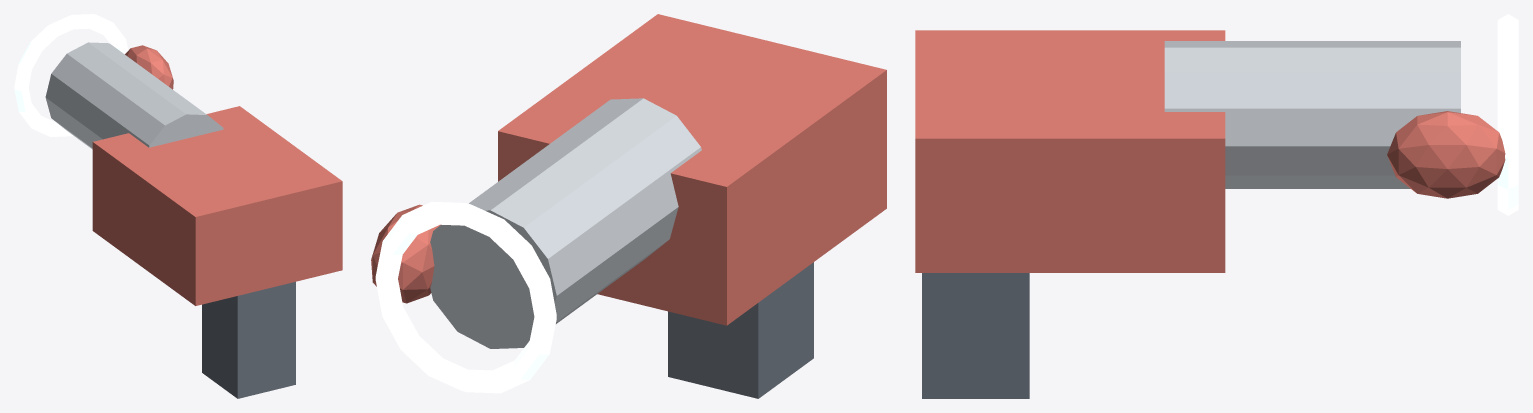
The model's file is pistola_4.glb.
3 renders of one model, left to right at view 1: azimuth 30°, elevation 25°; view 2: azimuth 150°, elevation 25°; view 3: azimuth 270°, elevation 25°, orthographic. The views are drawn at different scales.
Visible parts, largest first — view 1: cuerpo, cañon, empuñadura, bobina, punta; view 2: cuerpo, cañon, bobina, empuñadura, punta; view 3: cuerpo, cañon, empuñadura, punta, bobina.
Part boxes in pixels (x1=…): cuerpo: x1=92, y1=106, x2=342, y2=305; cañon: x1=45, y1=42, x2=223, y2=149; empuñadura: x1=202, y1=281, x2=295, y2=398; bobina: x1=14, y1=14, x2=128, y2=136; punta: x1=125, y1=45, x2=173, y2=89; cuerpo: x1=498, y1=14, x2=886, y2=325; cañon: x1=430, y1=98, x2=701, y2=348; bobina: x1=375, y1=201, x2=556, y2=393; empuñadura: x1=668, y1=262, x2=813, y2=398; punta: x1=371, y1=204, x2=440, y2=303; cuerpo: x1=915, y1=30, x2=1225, y2=272; cañon: x1=1164, y1=41, x2=1460, y2=188; empuñadura: x1=922, y1=273, x2=1029, y2=398; punta: x1=1387, y1=111, x2=1505, y2=198; bobina: x1=1497, y1=14, x2=1518, y2=215.
Size of the model in its own units: 0.3819 by 0.5829 by 0.9.
